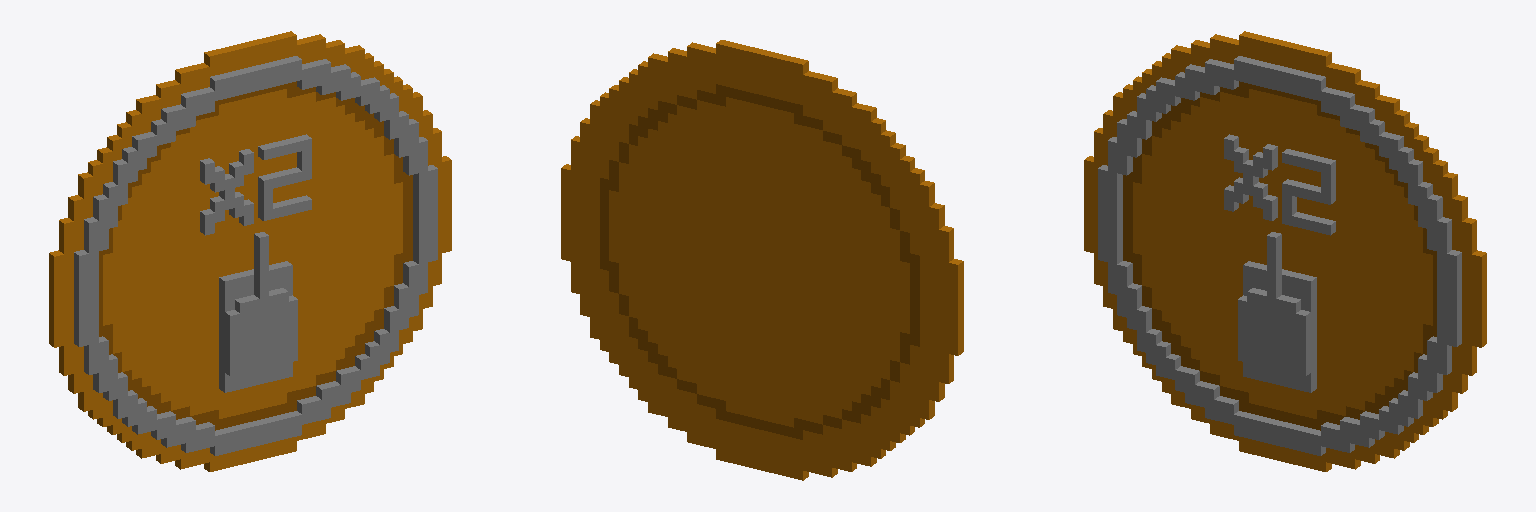
3 views of the same model, side by side, from view 1: azimuth 30°, elevation 25°; view 2: azimuth 150°, elevation 25°; view 3: azimuth 330°, elevation 25° (orthographic).
Visible parts, largest first — view 1: object 1; view 2: object 1; view 3: object 1.
Part boxes in pixels (x1,y1,x2,y2): object 1: (49,31,451,471); object 1: (561,40,963,480); object 1: (1084,31,1486,471).
Bounding box in the file's own units: 4.1 × 4.1 × 0.3.
1 materials, 1 textured.